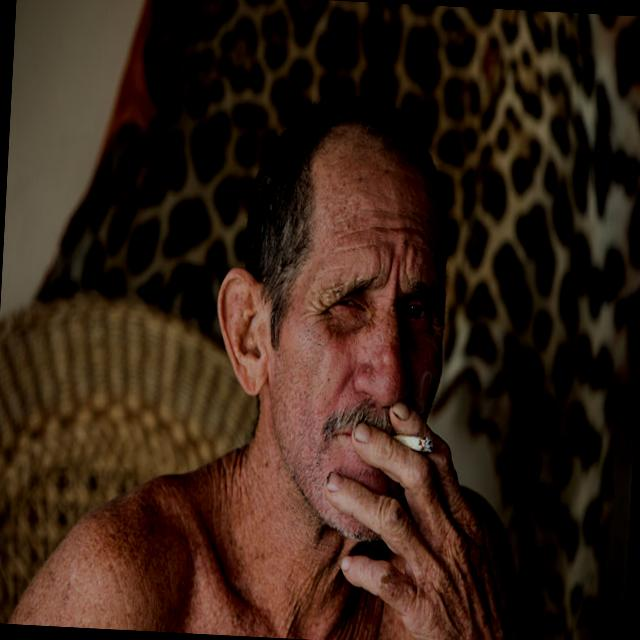smoke: (398, 436, 436, 453)
